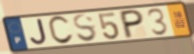3: (147, 8, 169, 37)
5: (96, 11, 121, 40)
C: (47, 15, 76, 46)
J: (29, 18, 48, 46)
P: (120, 8, 145, 40)
S: (72, 13, 100, 44)
